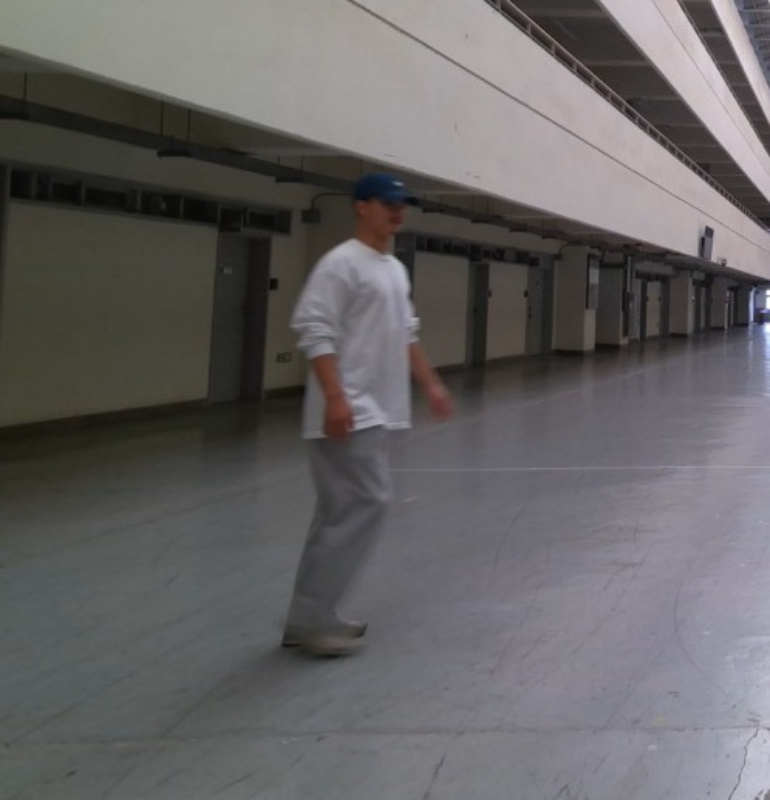person: (281, 172, 458, 662)
